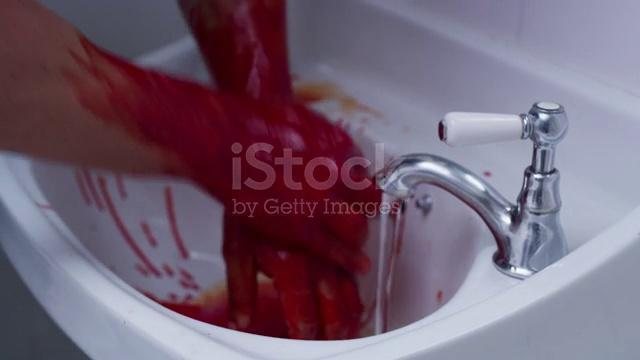Fire: (67, 2, 381, 340), (72, 167, 201, 301)
